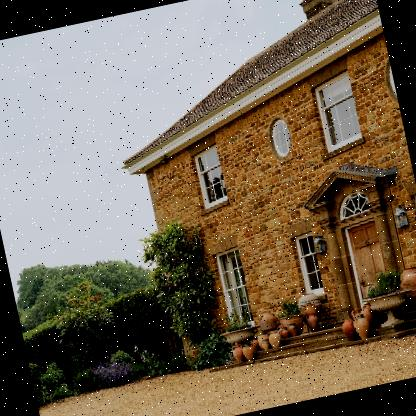door: (324, 198, 402, 314)
stair: (243, 312, 361, 368)
